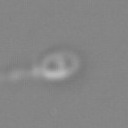abnormal: (1, 55, 40, 88)
